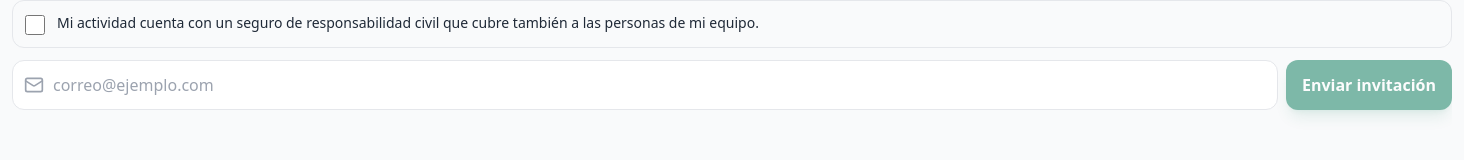
InviteMemberCard › la primera invitación de un profesional individual (D35) › pide la frase del seguro y no deja enviar hasta marcarla
Type "ana@correo.com" into the field named "Correo de la persona".
click(645, 85); type("ana@correo.com")  # box [12,60,1278,110]
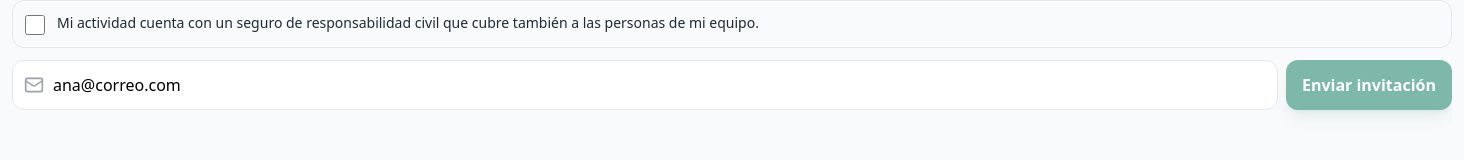
Check: the button "Enviar invitación" is disabled, box [1286,60,1452,110]
Click the checkbox named "Mi actividad cuenta con un seguro de responsabilidad civil que cubre también a las personas de mi equipo.".
click(35, 25)  # box [25,15,45,35]
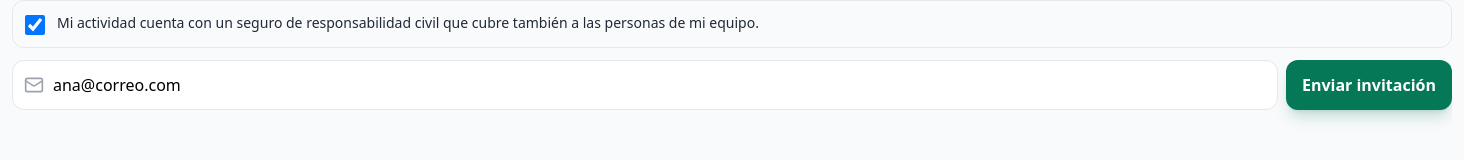
Check: the button "Enviar invitación" is enabled, box [1286,60,1452,110]
